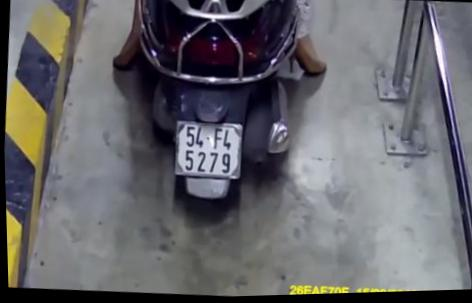LP: (171, 118, 243, 183)
